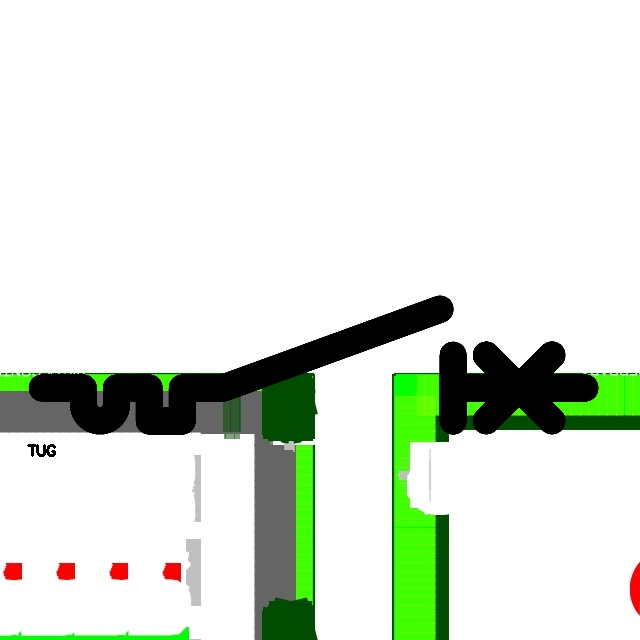interruptor_termomagnetico: (28, 295, 599, 435)
